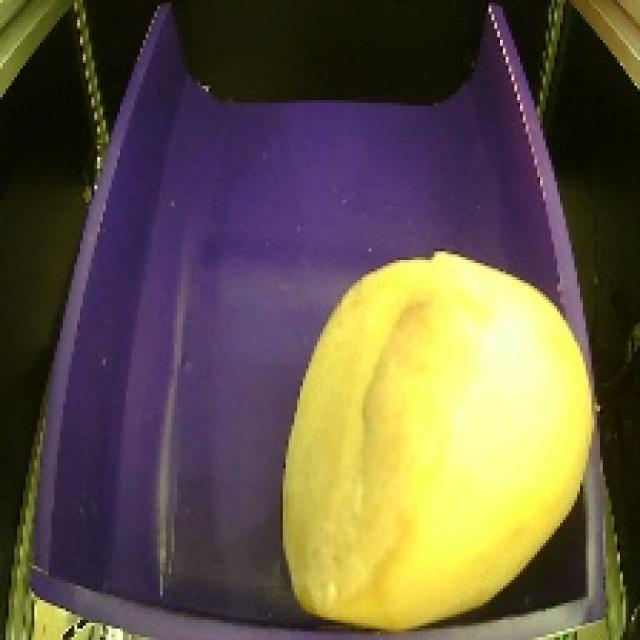full_potato: (268, 238, 607, 640)
